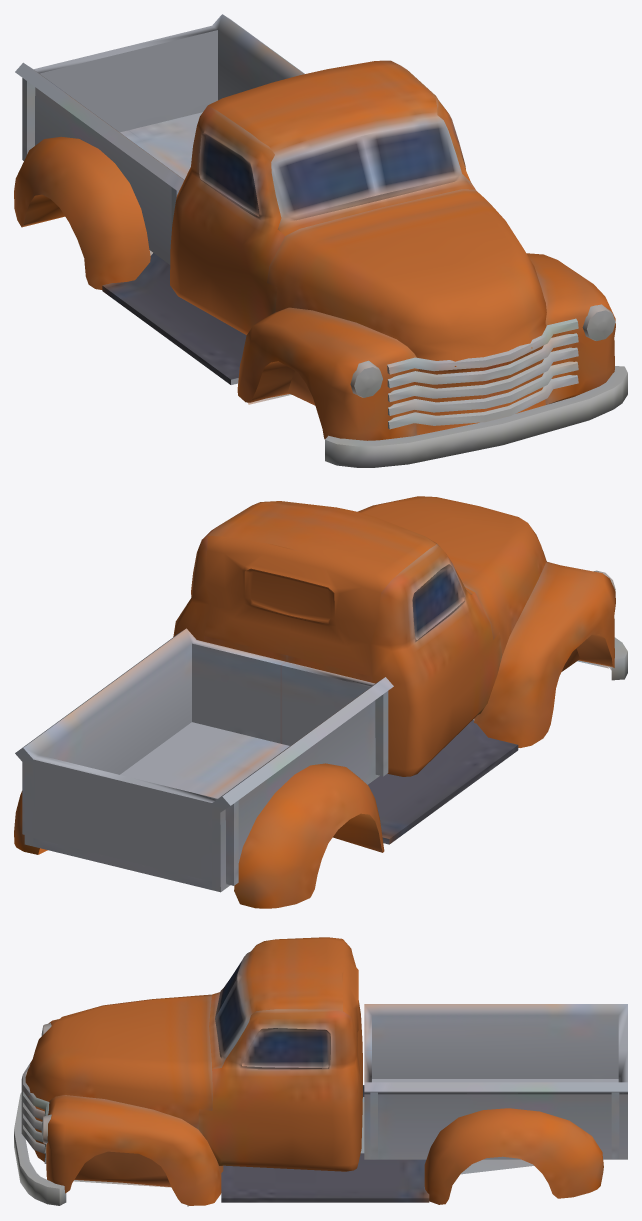
The model's file is 加油新车.glb.
3 views of the same model, one above another, from view 1: azimuth 30°, elevation 25°; view 2: azimuth 150°, elevation 25°; view 3: azimuth 270°, elevation 25° (orthographic). The views are drawn at different scales.
Visible parts, largest first — view 1: SM_che-che; view 2: SM_che-che; view 3: SM_che-che.
Boxes of the visible parts, <box> form: SM_che-che: <box>14,14,627,467</box>; SM_che-che: <box>14,496,627,908</box>; SM_che-che: <box>14,937,627,1206</box>.
Size of the model in its own units: 1.76 by 1.27 by 3.86.
Materials: 1 (1 with a texture image).
